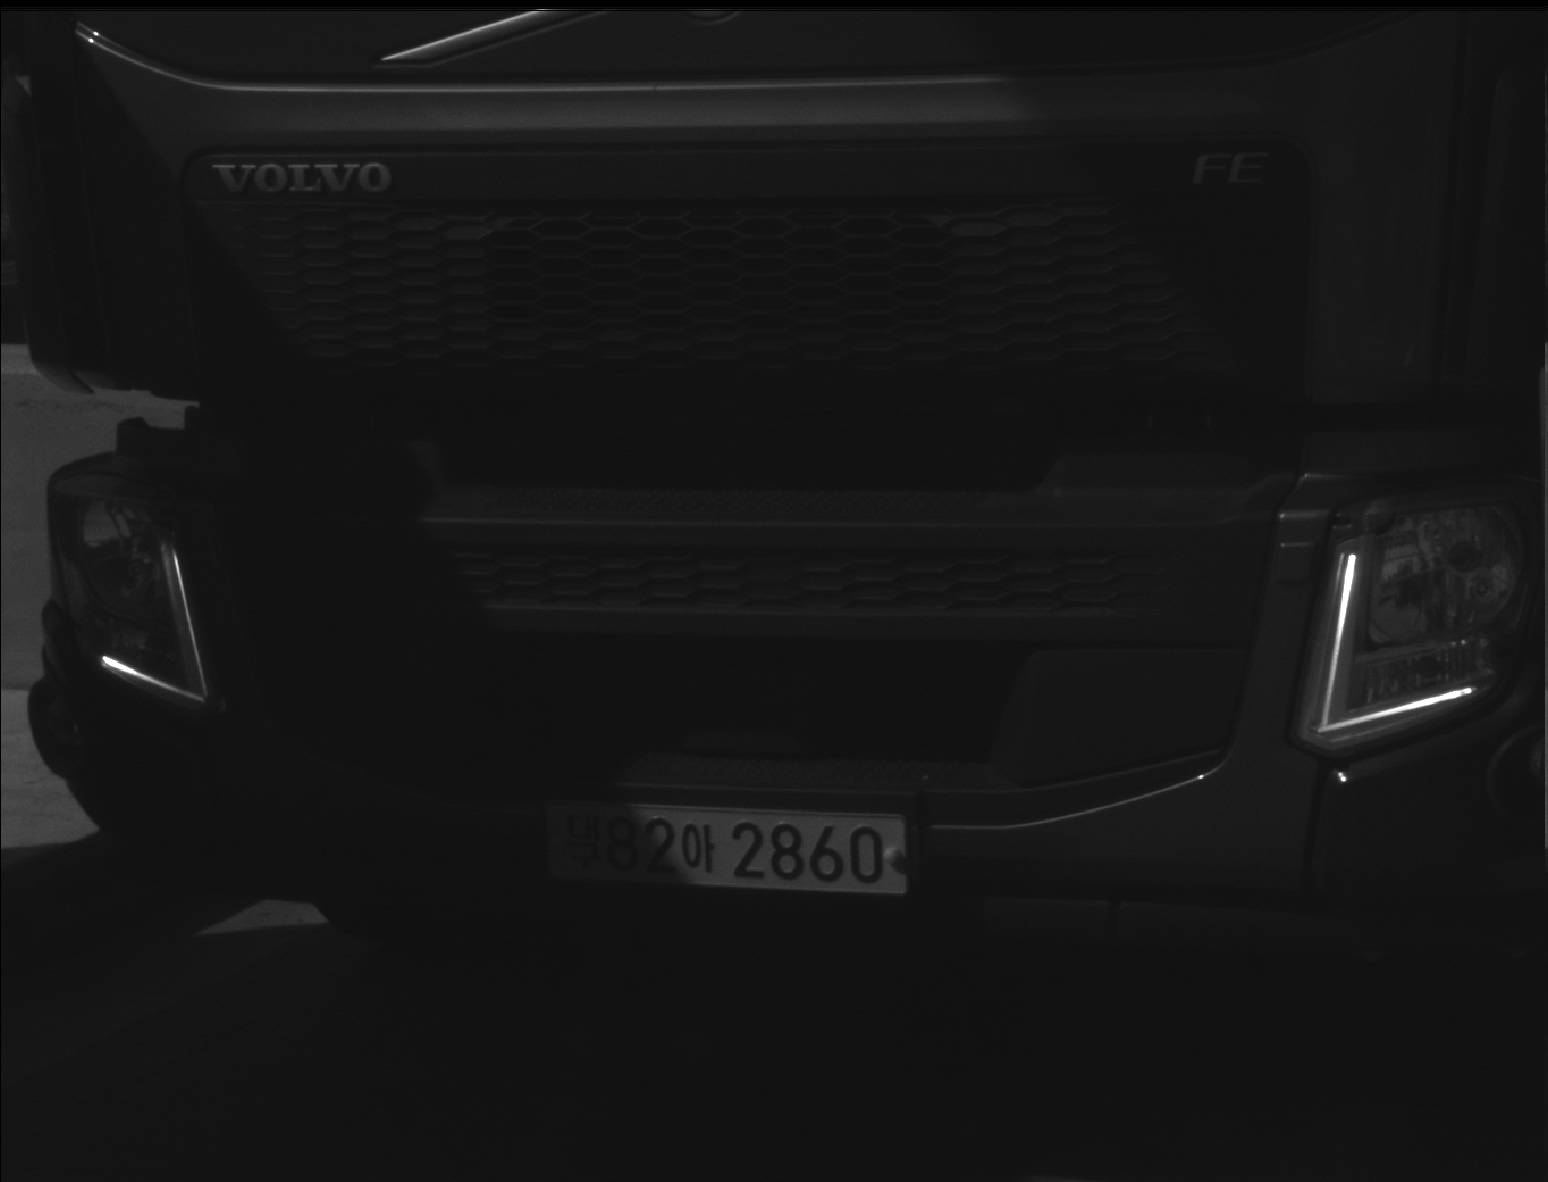car: (23, 1, 1542, 991)
plate: (474, 793, 924, 899)
